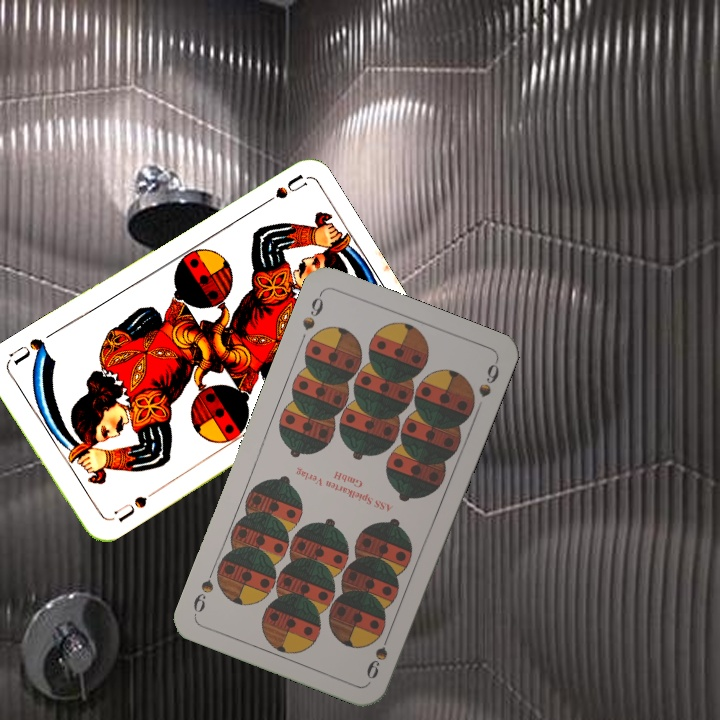S9: (362, 627, 394, 682), (298, 288, 326, 333)
SU: (252, 171, 308, 212), (109, 491, 150, 525)
